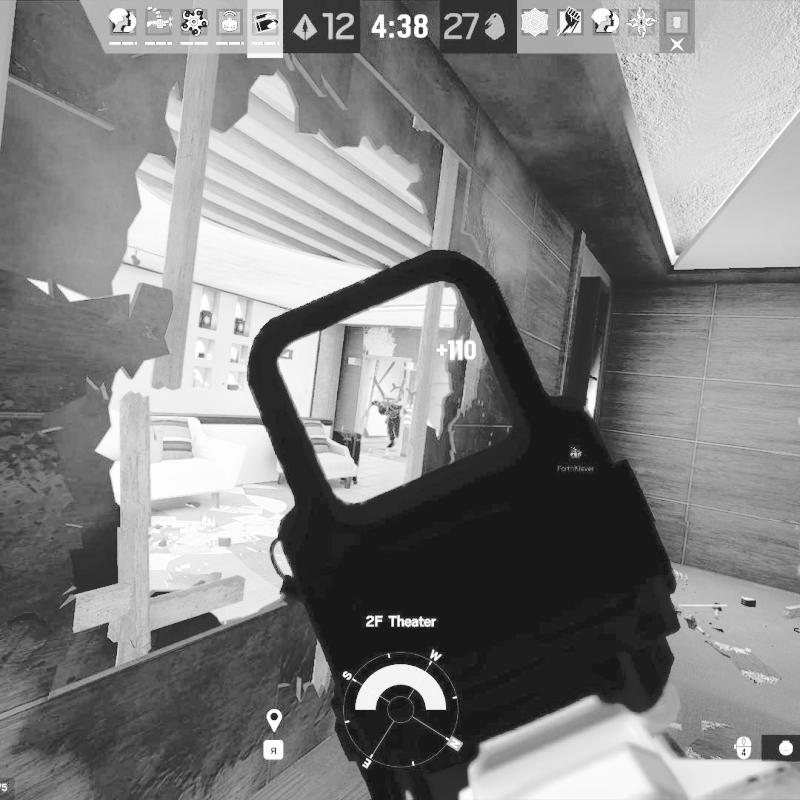Character: (372, 393, 403, 450)
Friend_label: (557, 444, 595, 474)
